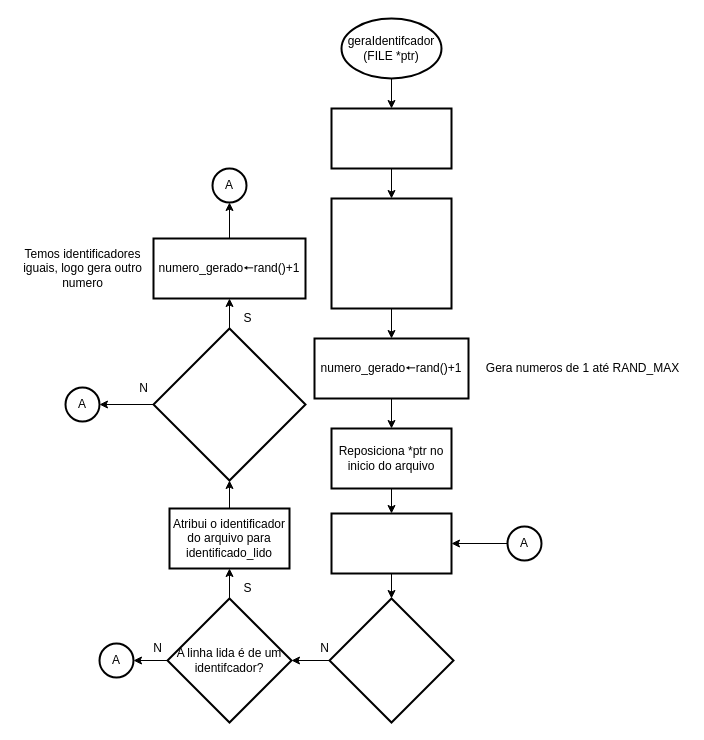
Some shapes in this 704 by 740 pixel diagram are drawn without their labels. The box of each missing label's shape, as (x1, y1, x2, y2) in pixels:
Cria semente randomica a partir do tempo: (330, 107, 452, 169)
Declara numero_gerado , identificador_lido Declara vetor lido[55]: (330, 197, 452, 309)
identificador_lido é igual a numero_gerado?: (152, 327, 306, 481)
Le com fgets a linha do meu arquivo e atribui para o vetor lido: (330, 512, 452, 574)
Terminamos de ler o arquivo?: (328, 597, 454, 723)
